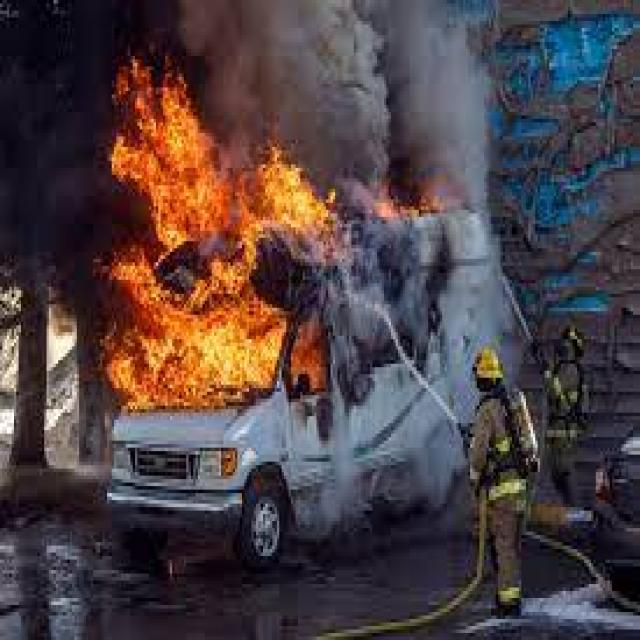fire: (114, 63, 333, 255), (98, 252, 279, 409), (284, 311, 328, 395)
smoke: (175, 3, 382, 210), (2, 3, 107, 336), (384, 3, 491, 217)
